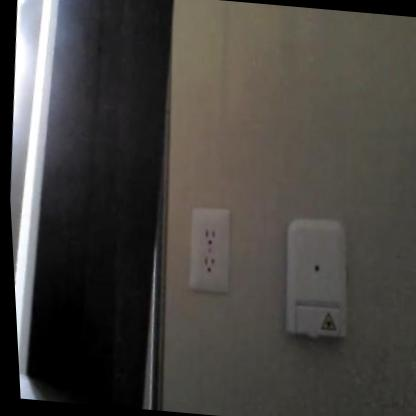OUTLET: (182, 204, 238, 296)
